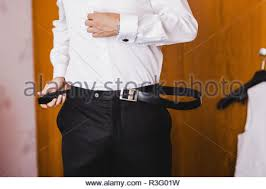F_belt: (35, 81, 215, 114)
